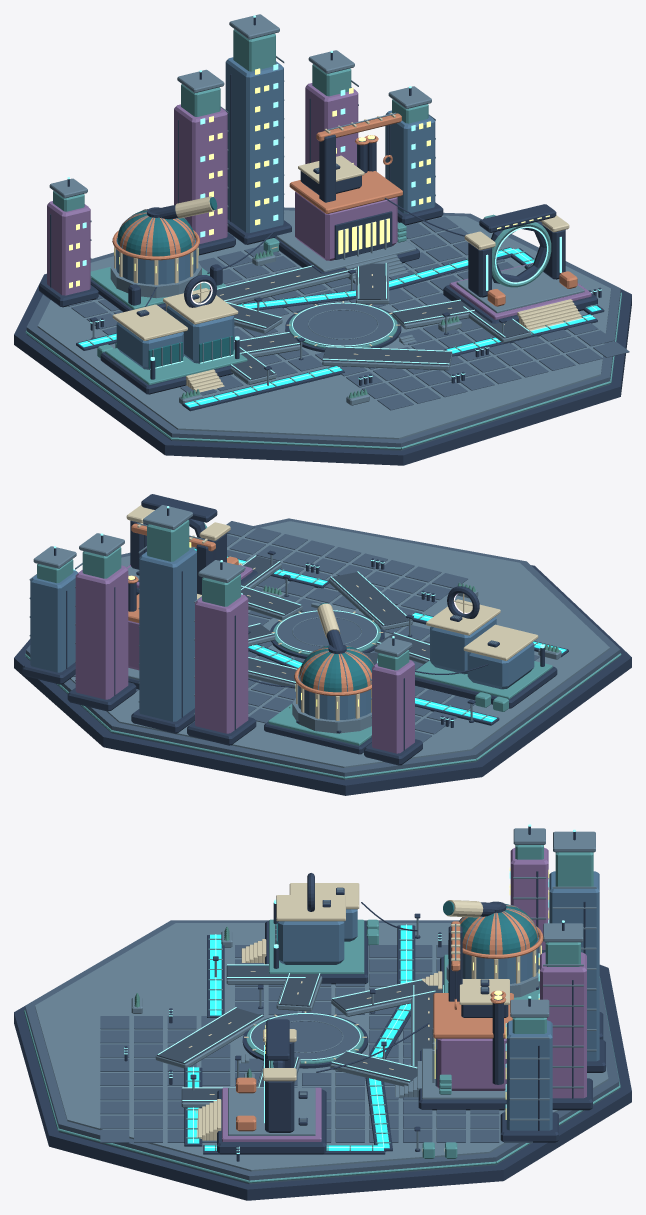
File: district-world.glb
The picture shows the model from 3 angles, top to bottom: view 1: azimuth 30°, elevation 25°; view 2: azimuth 150°, elevation 25°; view 3: azimuth 270°, elevation 25°; orthographic projection. The views are drawn at different scales.
Parts seen in each view (by area): view 1: TerrainTerraces__Blue_slate_terraces, TerrainTerraces__Blue_steel_bevels, RearCitySpires__Petrol_blue_enamel, RearCitySpires__Violet_enamel, TerrainTerraces__Ink_structural_alloy, ElevatedRoads__Road_graphite, PreviewGateway__Ink_structural_alloy, RearCitySpires__Patinated_teal_ceramic, ConstructionForge__Ink_structural_alloy, VerificationLab__Warm_ceramic_trim, CentralPlaza__Blue_slate_terraces, RearCitySpires__Blue_steel_bevels (+31 smaller); view 2: TerrainTerraces__Blue_steel_bevels, TerrainTerraces__Blue_slate_terraces, RearCitySpires__Violet_enamel, RearCitySpires__Petrol_blue_enamel, TerrainTerraces__Ink_structural_alloy, RearCitySpires__Ink_structural_alloy, ElevatedRoads__Road_graphite, RearCitySpires__Patinated_teal_ceramic, VerificationLab__Petrol_blue_enamel, RearCitySpires__Blue_steel_bevels, VerificationLab__Warm_ceramic_trim, CentralPlaza__Blue_slate_terraces (+22 smaller); view 3: TerrainTerraces__Blue_slate_terraces, TerrainTerraces__Blue_steel_bevels, TerrainTerraces__Ink_structural_alloy, ElevatedRoads__Road_graphite, RearCitySpires__Petrol_blue_enamel, RearCitySpires__Violet_enamel, RearCitySpires__Blue_steel_bevels, PreviewGateway__Ink_structural_alloy, EnergyChannels__Cyan_energy_water, ConstructionForge__Ink_structural_alloy, VerificationLab__Petrol_blue_enamel, RearCitySpires__Patinated_teal_ceramic (+27 smaller).
Boxes of the visible parts, <box> form: TerrainTerraces__Blue_slate_terraces: <box>26,207,629,450</box>; TerrainTerraces__Blue_steel_bevels: <box>37,210,611,439</box>; RearCitySpires__Petrol_blue_enamel: <box>225,57,435,232</box>; RearCitySpires__Violet_enamel: <box>47,83,358,295</box>; TerrainTerraces__Ink_structural_alloy: <box>14,273,631,465</box>; ElevatedRoads__Road_graphite: <box>216,263,529,380</box>; PreviewGateway__Ink_structural_alloy: <box>443,204,597,323</box>; RearCitySpires__Patinated_teal_ceramic: <box>53,29,428,211</box>; ConstructionForge__Ink_structural_alloy: <box>275,125,419,273</box>; VerificationLab__Warm_ceramic_trim: <box>112,283,238,392</box>; CentralPlaza__Blue_slate_terraces: <box>293,303,393,346</box>; RearCitySpires__Blue_steel_bevels: <box>49,14,435,278</box>; TerrainTerraces__Blue_steel_bevels: <box>70,521,609,767</box>; TerrainTerraces__Blue_slate_terraces: <box>26,518,620,780</box>; RearCitySpires__Violet_enamel: <box>75,565,414,753</box>; RearCitySpires__Petrol_blue_enamel: <box>30,547,196,721</box>; TerrainTerraces__Ink_structural_alloy: <box>14,565,631,795</box>; RearCitySpires__Ink_structural_alloy: <box>22,508,422,765</box>; ElevatedRoads__Road_graphite: <box>241,556,429,683</box>; RearCitySpires__Patinated_teal_ceramic: <box>37,519,409,670</box>; VerificationLab__Petrol_blue_enamel: <box>430,616,534,689</box>; RearCitySpires__Blue_steel_bevels: <box>29,505,412,736</box>; VerificationLab__Warm_ceramic_trim: <box>426,593,538,660</box>; CentralPlaza__Blue_slate_terraces: <box>277,611,376,652</box>; TerrainTerraces__Blue_slate_terraces: <box>25,920,619,1184</box>; TerrainTerraces__Blue_steel_bevels: <box>35,923,608,1171</box>; TerrainTerraces__Ink_structural_alloy: <box>14,964,631,1200</box>; ElevatedRoads__Road_graphite: <box>157,965,443,1102</box>; RearCitySpires__Petrol_blue_enamel: <box>506,871,599,1130</box>; RearCitySpires__Violet_enamel: <box>510,847,586,1098</box>; RearCitySpires__Blue_steel_bevels: <box>509,828,596,1120</box>; PreviewGateway__Ink_structural_alloy: <box>217,1019,326,1154</box>; EnergyChannels__Cyan_energy_water: <box>187,925,412,1150</box>; ConstructionForge__Ink_structural_alloy: <box>418,926,508,1110</box>; VerificationLab__Petrol_blue_enamel: <box>278,909,357,964</box>; RearCitySpires__Patinated_teal_ceramic: <box>512,845,593,1033</box>.
Bounding box in the file's own units: 56.16 × 24.77 × 55.12.
